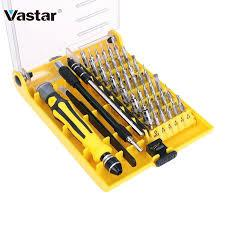screwdriver: (35, 79, 121, 174)
